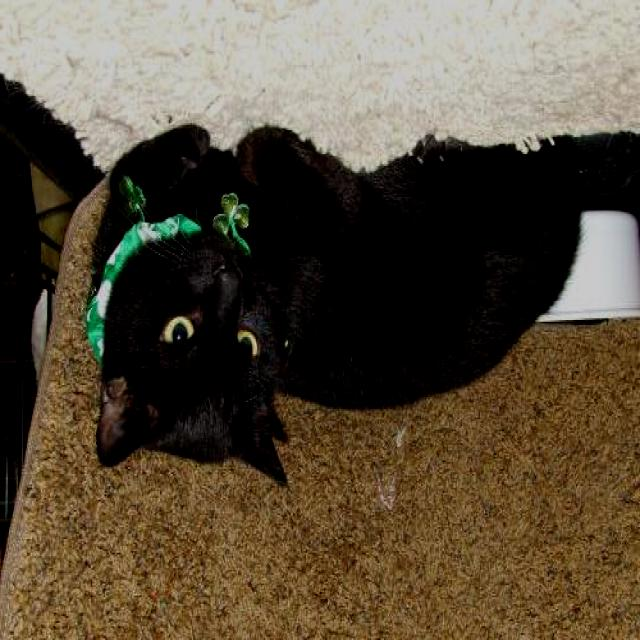Kucing: (46, 78, 627, 536)
